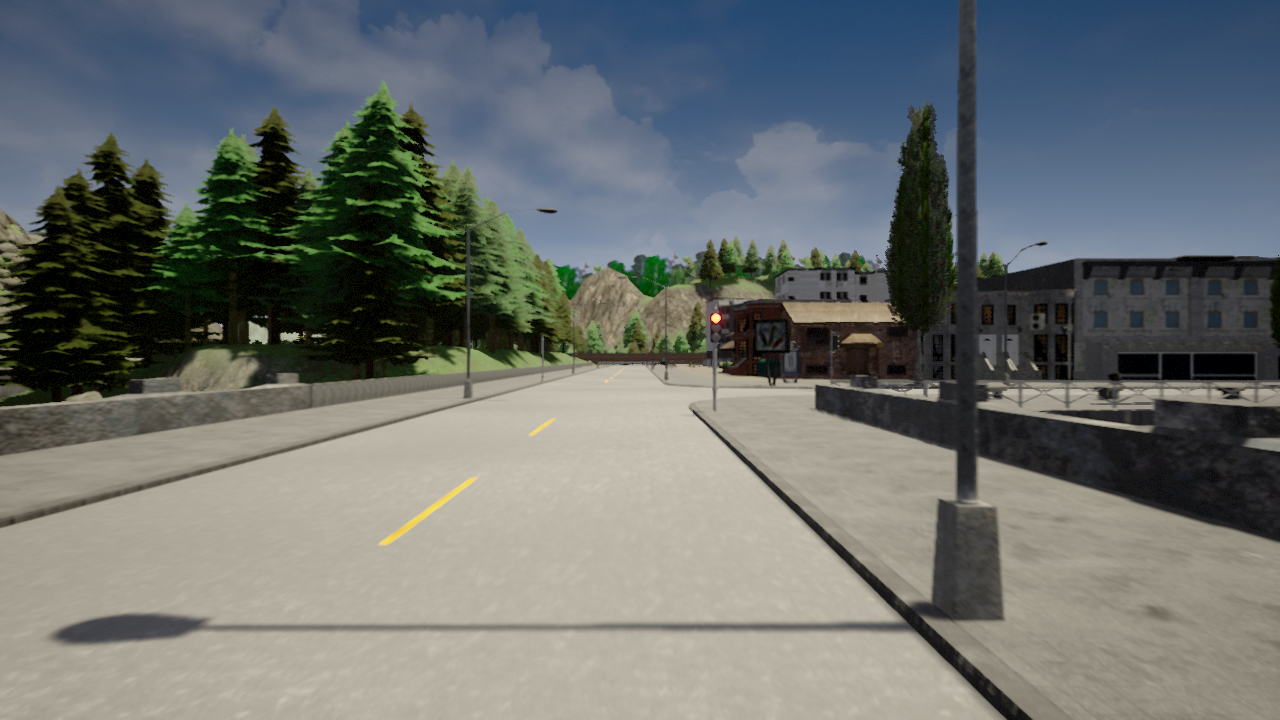red: (710, 310, 723, 344)
